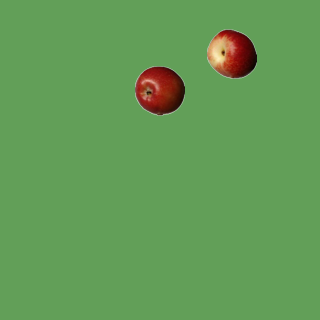Apple Braeburn: (134, 65, 184, 115)
Nectarine: (206, 28, 256, 78)
